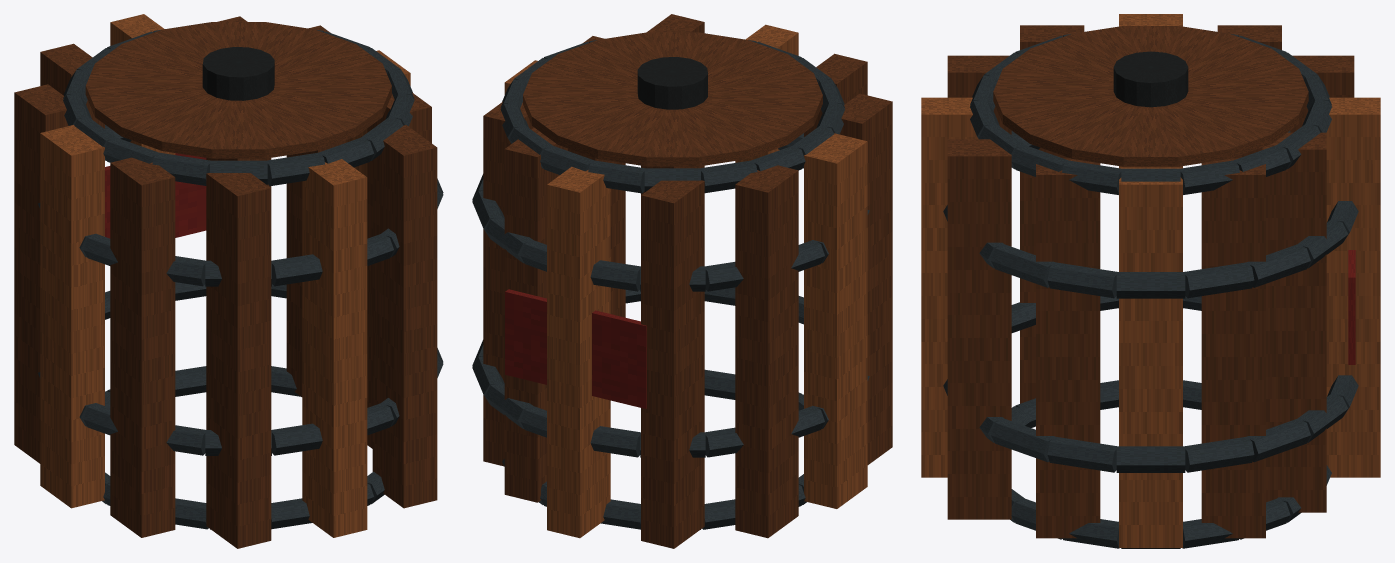
File: SM_black_powder_keg.gltf
3 renders of one model, left to right at view 1: azimuth 30°, elevation 25°; view 2: azimuth 150°, elevation 25°; view 3: azimuth 270°, elevation 25°, orthographic. The views are drawn at different scales.
Parts seen in each view (by area): view 1: root; view 2: root; view 3: root.
Part boxes in pixels (<box>): root: <box>14,14,443,548</box>; root: <box>472,14,892,548</box>; root: <box>921,14,1380,548</box>.
Size of the model in its own units: 0.7969 by 0.8417 by 0.86.
5 materials, 5 textured.
